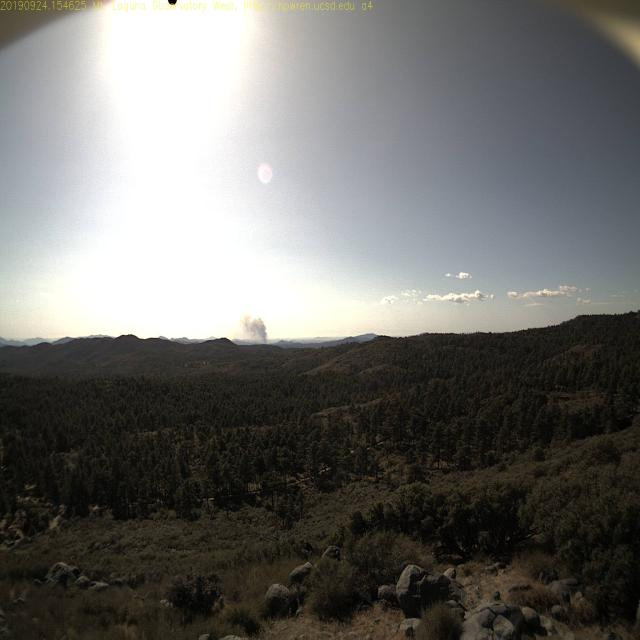smoke: (242, 310, 273, 347)
